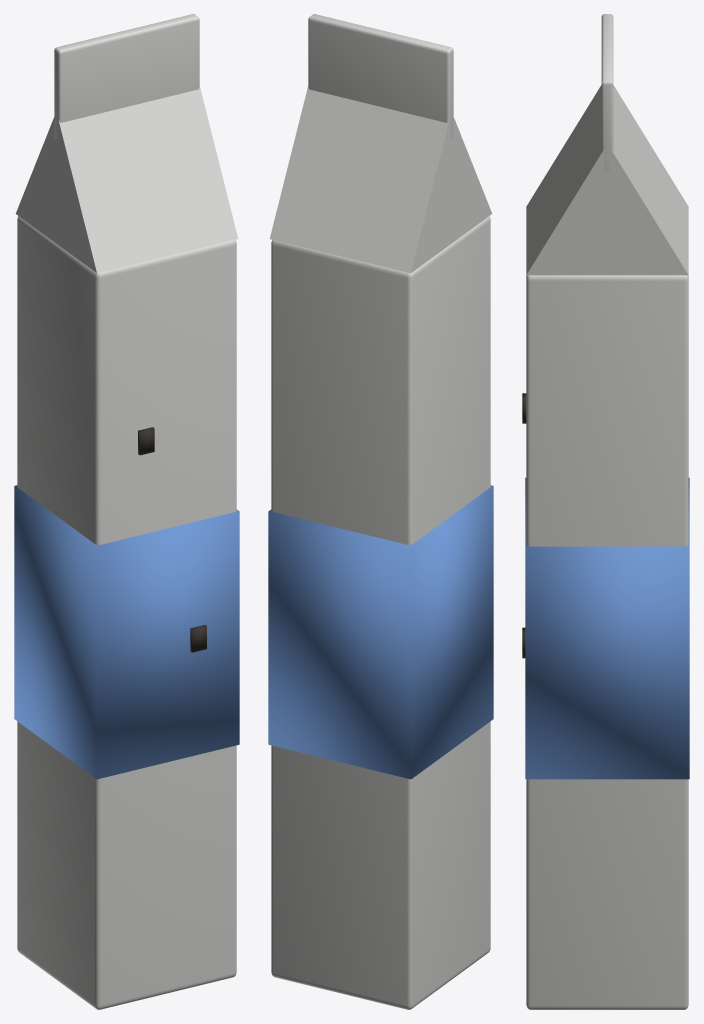
Rendered from milk_carton_dmg.glb.
3 views of the same model, side by side, from view 1: azimuth 30°, elevation 25°; view 2: azimuth 150°, elevation 25°; view 3: azimuth 270°, elevation 25° (orthographic).
Parts seen in each view (by area): view 1: Cube.005, Cube.006, wedge.001, Cube.007; view 2: Cube.005, Cube.006, wedge.001, Cube.007; view 3: Cube.005, Cube.006, wedge.001, Cube.007.
Boxes of the visible parts, left/top/right/bottom form: Cube.005: left=17, top=216, right=236, bottom=1009; Cube.006: left=14, top=485, right=239, bottom=779; wedge.001: left=15, top=86, right=238, bottom=273; Cube.007: left=54, top=14, right=199, bottom=139; Cube.005: left=271, top=216, right=490, bottom=1009; Cube.006: left=268, top=485, right=493, bottom=779; wedge.001: left=269, top=86, right=492, bottom=273; Cube.007: left=308, top=14, right=453, bottom=139; Cube.005: left=526, top=275, right=688, bottom=1009; Cube.006: left=525, top=477, right=689, bottom=779; wedge.001: left=526, top=85, right=688, bottom=275; Cube.007: left=601, top=14, right=613, bottom=171.
Bounding box in the file's own units: 1.92 × 12 × 1.95.
